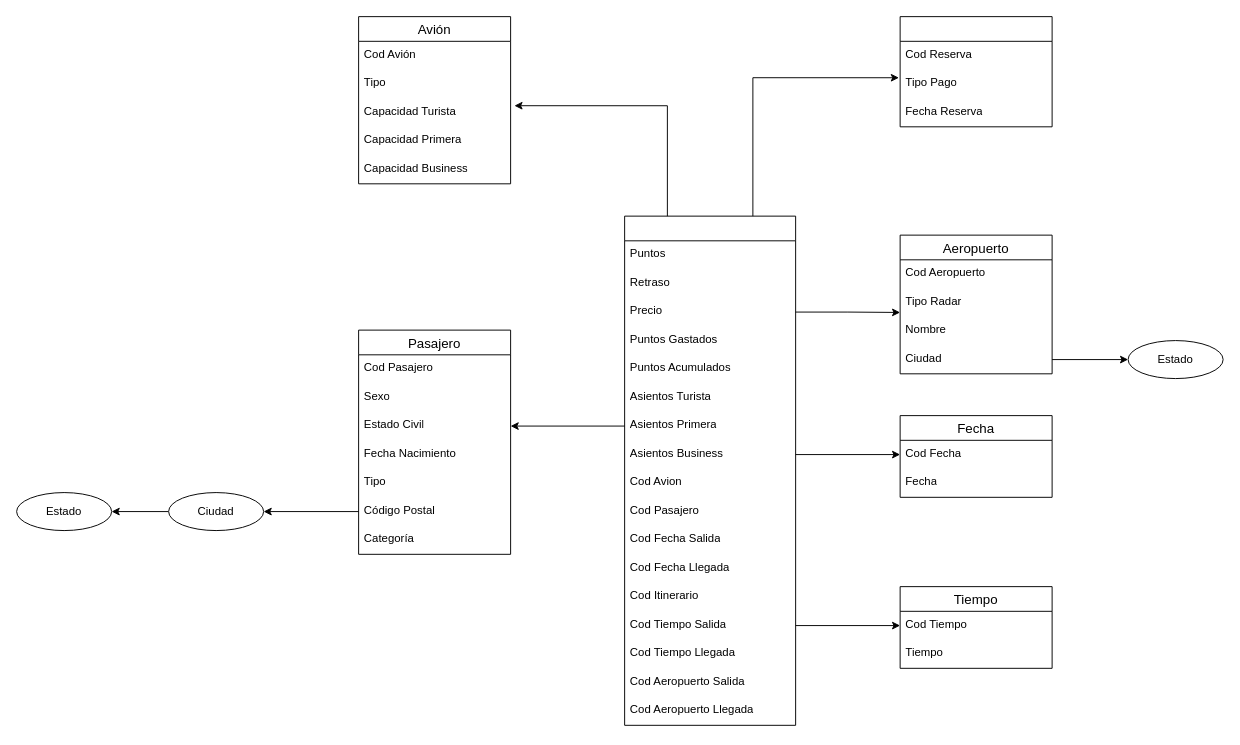
Image size: 1240x745. Some labels were removed from this diagram. The shapes that lost their labels are listed below. From the top down, each one's box as (x1, y1, x2, y2) in pixels, then its label:
(899, 16, 1052, 127): Itinerario
(624, 215, 796, 725): Trayecto
